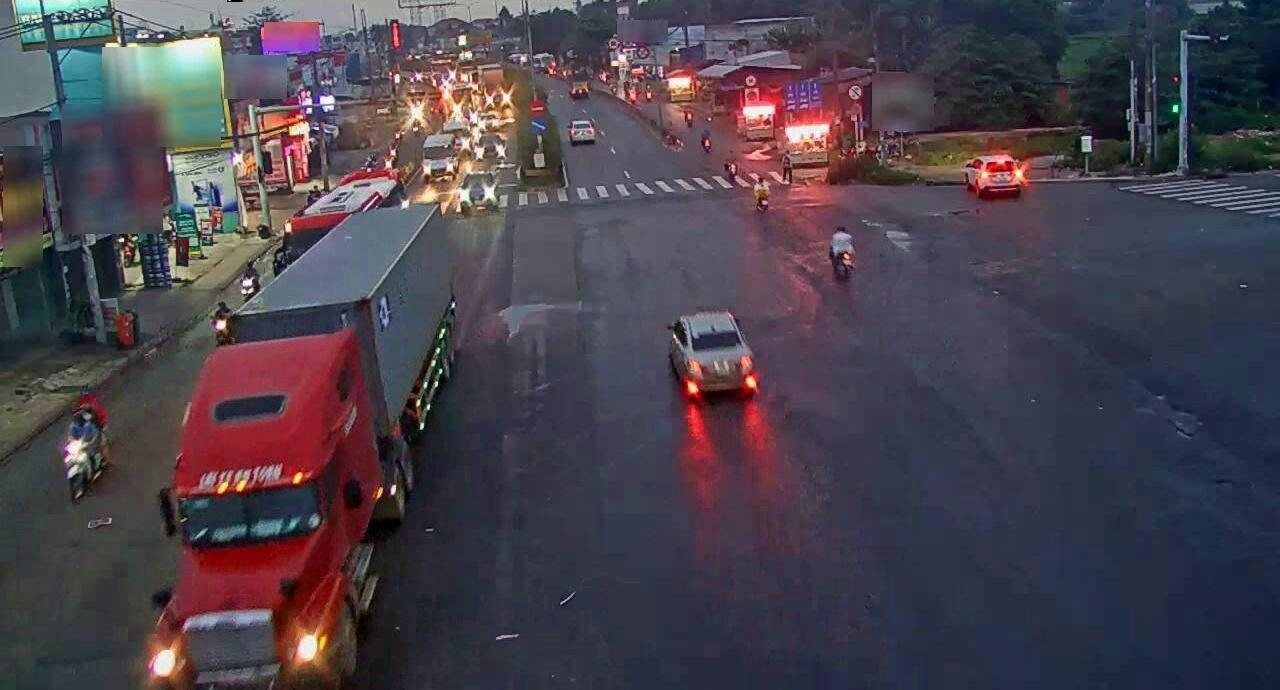xe container: (147, 204, 473, 689)
xe hoi: (665, 305, 759, 401)
xe may: (60, 410, 104, 500), (825, 227, 860, 277)
